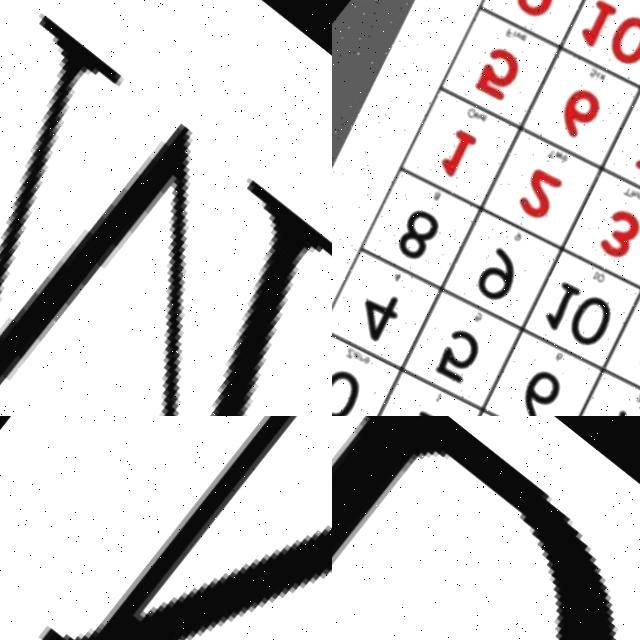0: (554, 284, 628, 361), (592, 0, 640, 80), (332, 357, 372, 416), (619, 317, 640, 396)
1: (421, 114, 495, 189), (526, 269, 594, 340), (562, 0, 629, 61), (380, 397, 454, 416)
2: (499, 154, 578, 233)
3: (582, 195, 640, 268)
4: (338, 274, 418, 355)
5: (415, 315, 495, 396), (456, 35, 536, 115)
6: (538, 74, 617, 154), (498, 357, 573, 416)
7: (615, 113, 640, 194)
8: (375, 194, 454, 274)
9: (457, 236, 534, 315), (495, 0, 575, 31)
D: (332, 416, 640, 640)
M: (0, 9, 332, 416)
N: (9, 416, 332, 640)
